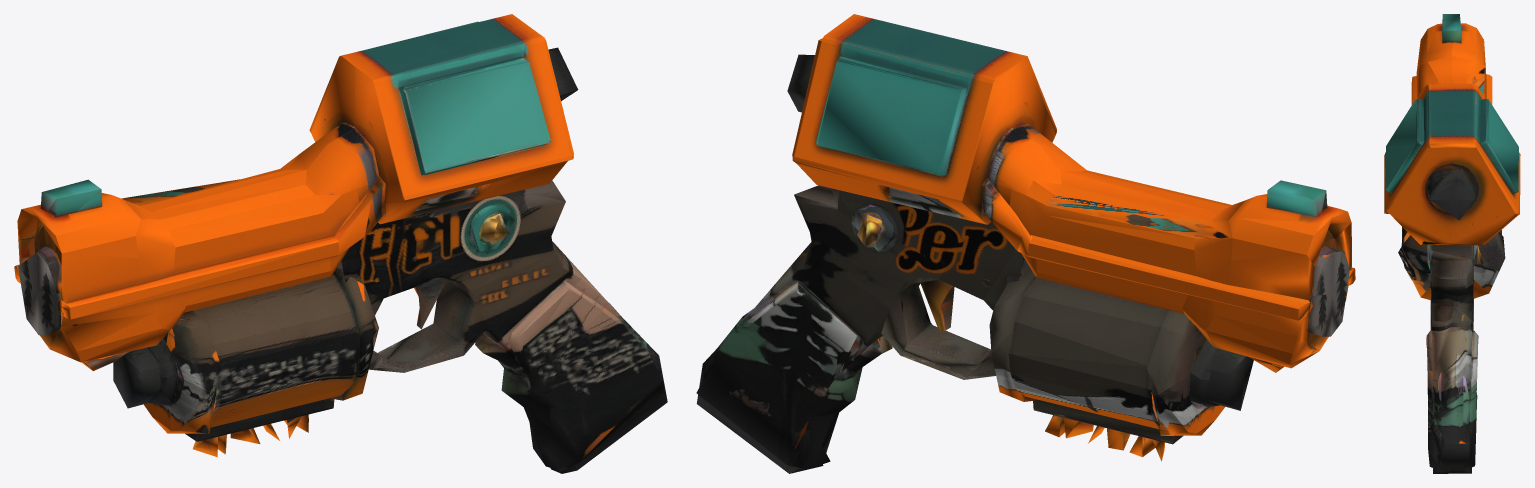
Rendered from sunflare-pistol.glb.
3 renders of one model, left to right at view 1: azimuth 30°, elevation 25°; view 2: azimuth 150°, elevation 25°; view 3: azimuth 270°, elevation 25°, orthographic. The views are drawn at different scales.
Size of the model in its own units: 0.9902 by 0.6836 by 0.2627.
Materials: 1 (1 with a texture image).
